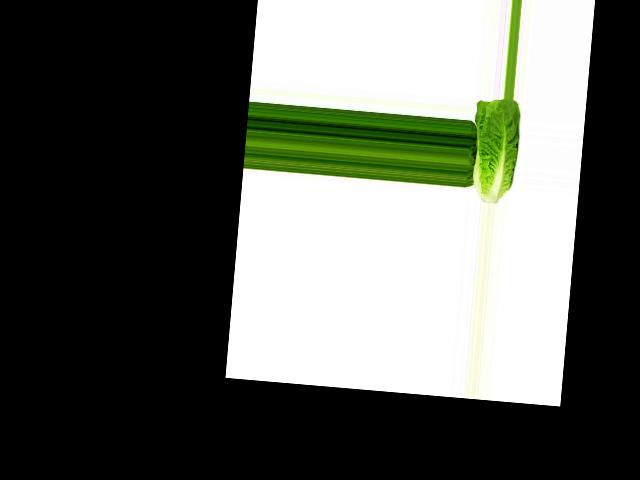lettuce: (470, 96, 529, 205)
